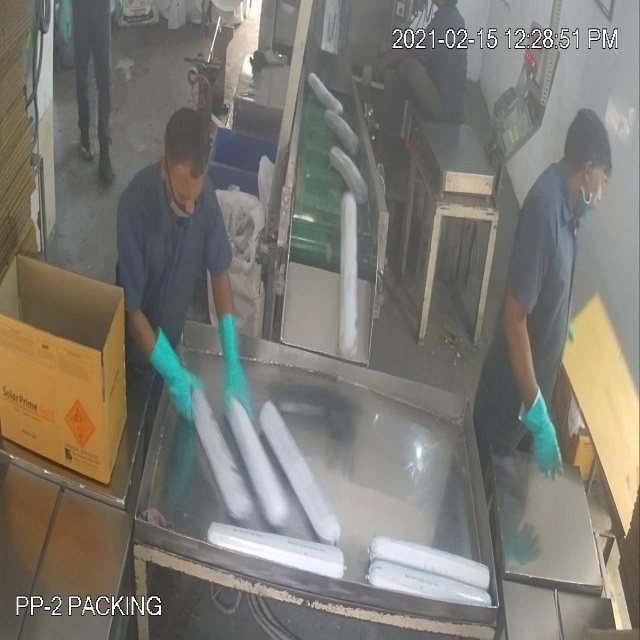Guantes: (509, 348, 582, 495), (140, 309, 210, 432), (204, 274, 252, 439)
